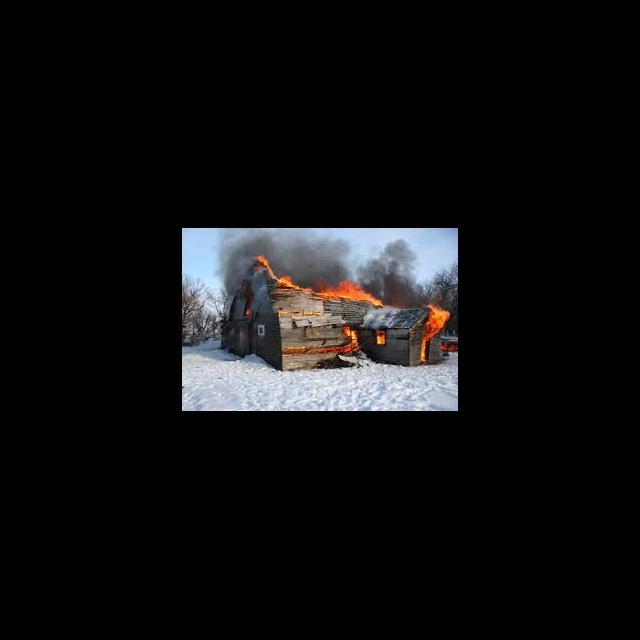Fire: (418, 303, 452, 363), (318, 278, 384, 308), (276, 274, 316, 298), (342, 326, 360, 353), (255, 255, 275, 278), (376, 329, 386, 346), (244, 306, 251, 318)
Smoke: (276, 228, 384, 274), (212, 230, 254, 294), (384, 242, 418, 308), (255, 230, 276, 254)
